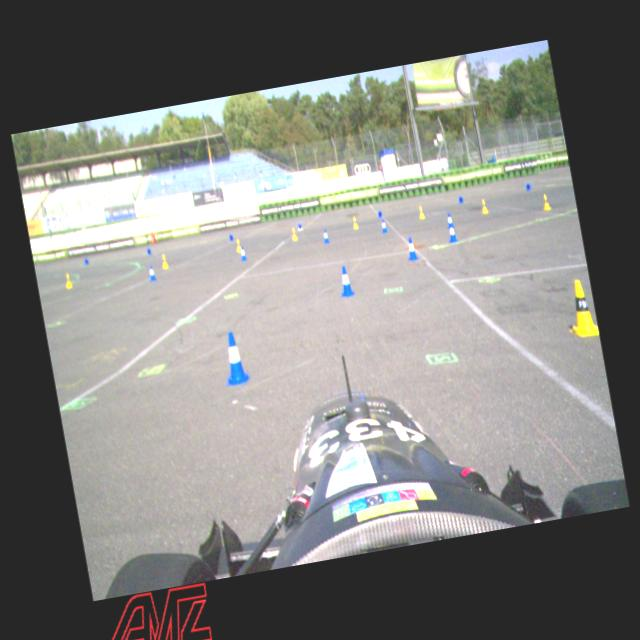blue_cone: (216, 328, 252, 387), (335, 264, 355, 298), (404, 234, 419, 262), (446, 224, 458, 244), (443, 212, 455, 230), (146, 264, 156, 282), (320, 228, 330, 245), (238, 246, 248, 262), (379, 217, 388, 234), (296, 222, 304, 230), (377, 210, 383, 218)
yellow_cone: (562, 277, 598, 339), (540, 192, 552, 210), (62, 272, 74, 290), (479, 198, 489, 215), (159, 252, 169, 268), (416, 204, 426, 220), (351, 216, 359, 230), (235, 237, 242, 252), (290, 227, 298, 240)
